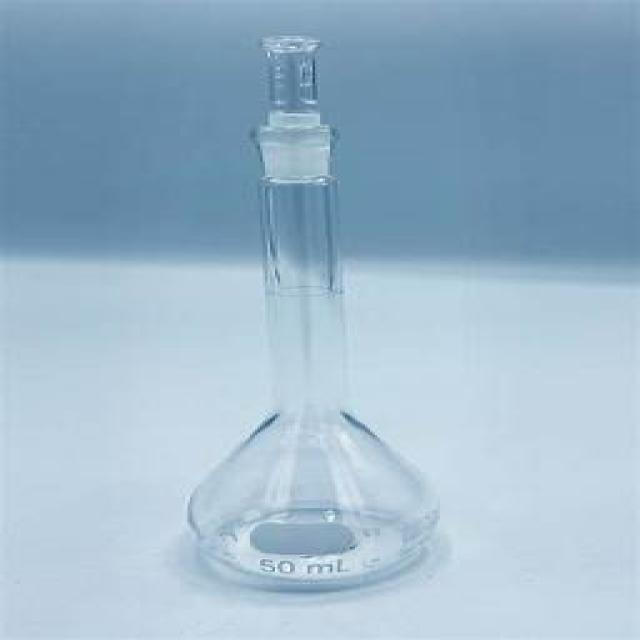Volumetric flask: (186, 19, 443, 585)
